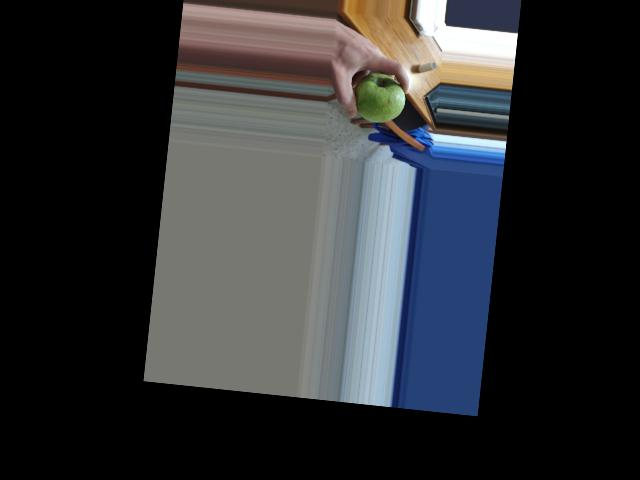apple: (350, 70, 410, 126)
